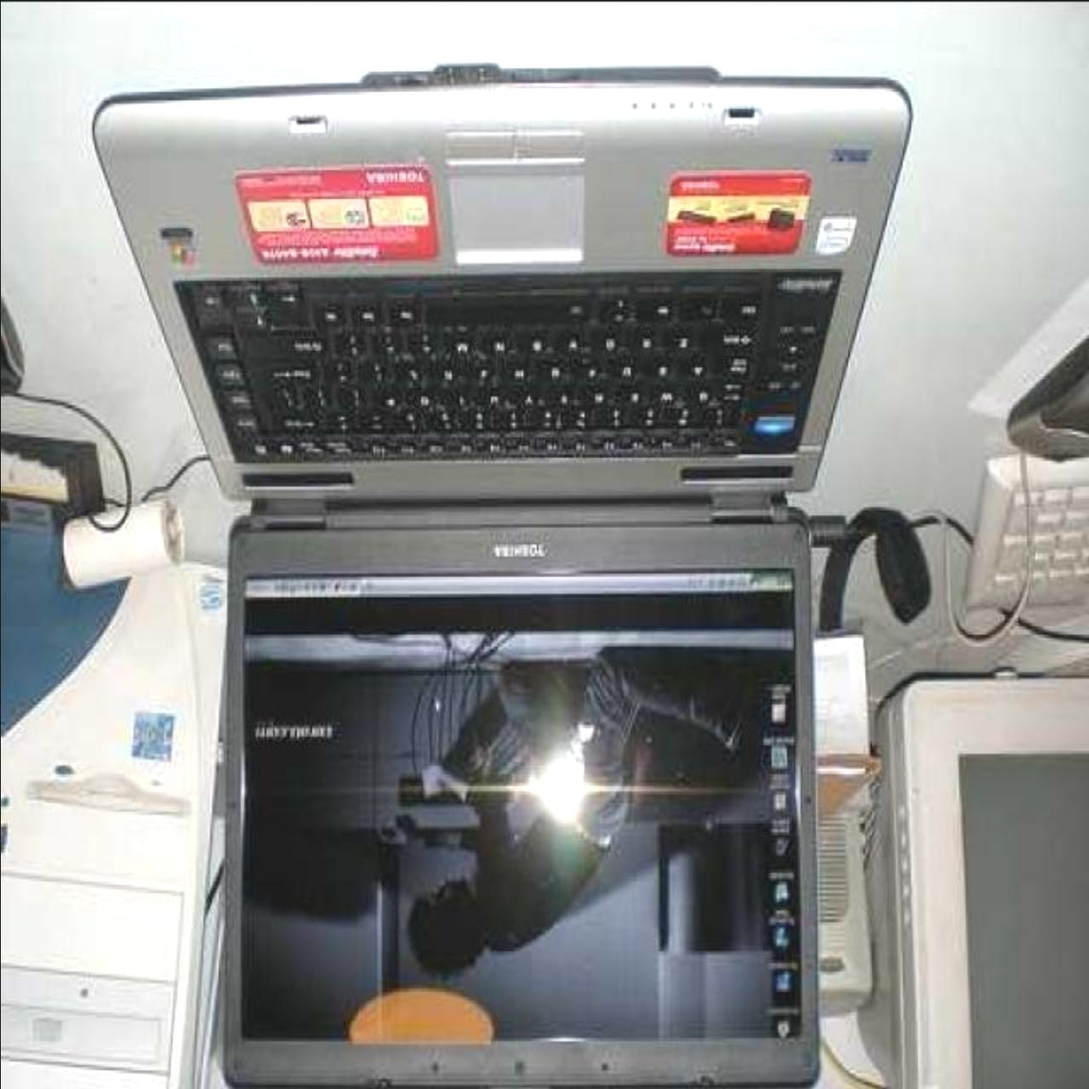laptop: (93, 48, 881, 1089)
